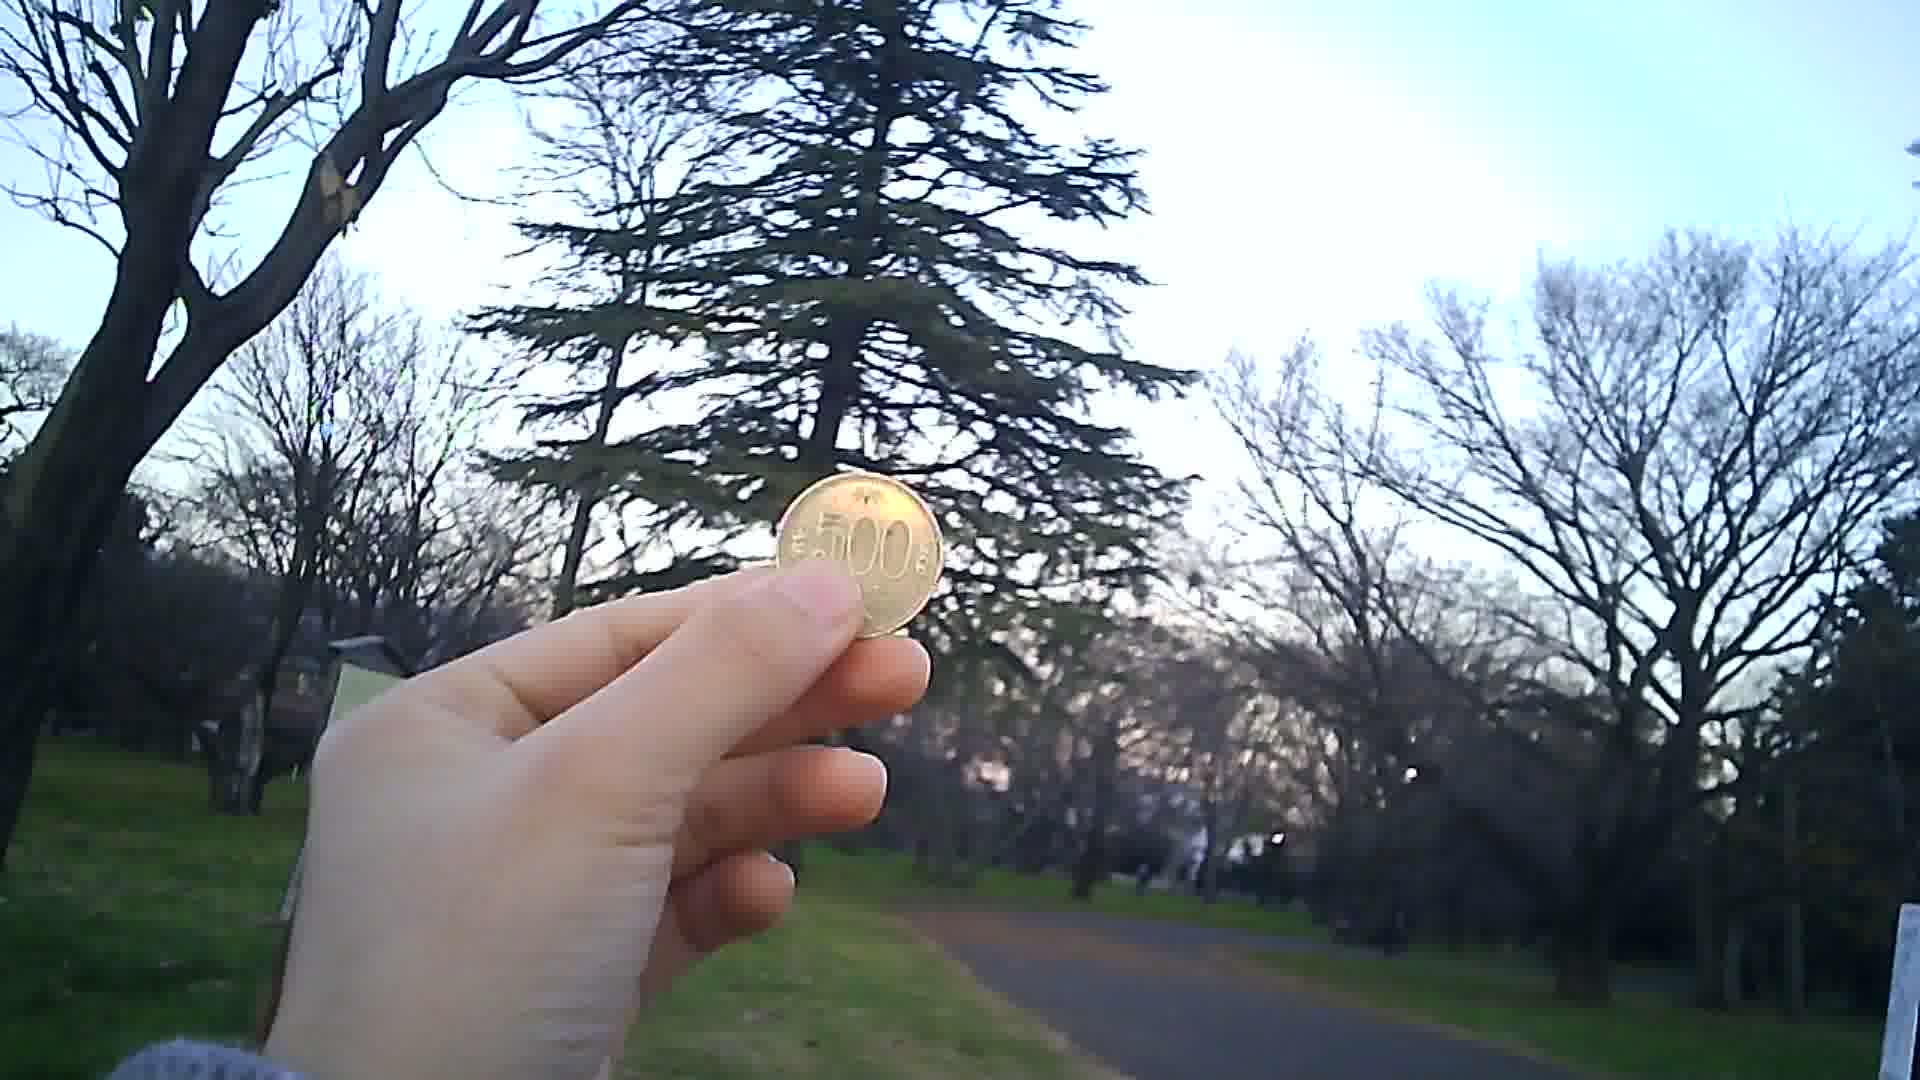500 Yen: (761, 471, 952, 642)
